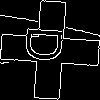D: (25, 25, 73, 64)
